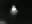person: (10, 5, 19, 17)
